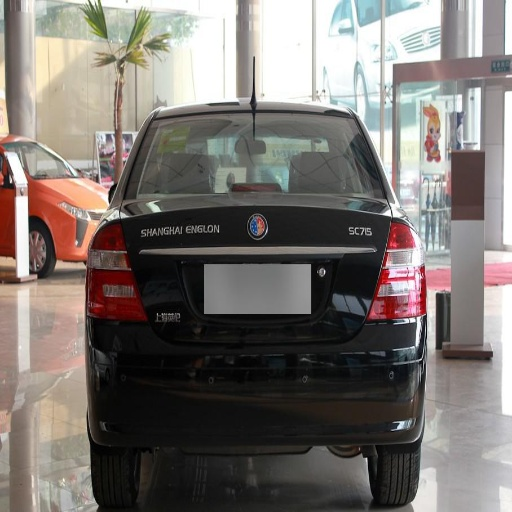back_bumper: (85, 316, 424, 500)
tailgate: (119, 195, 385, 355)
trunk: (170, 197, 254, 265)
